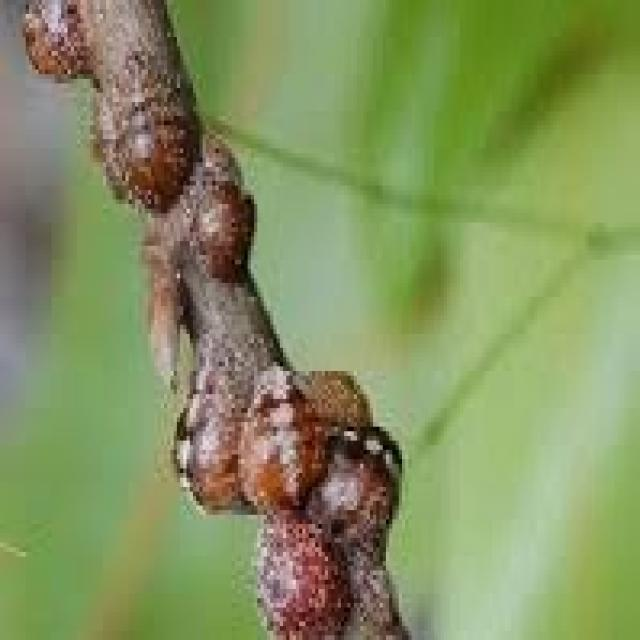BlackScale: (177, 371, 399, 635), (116, 51, 196, 209), (26, 0, 96, 96), (202, 181, 250, 278)
